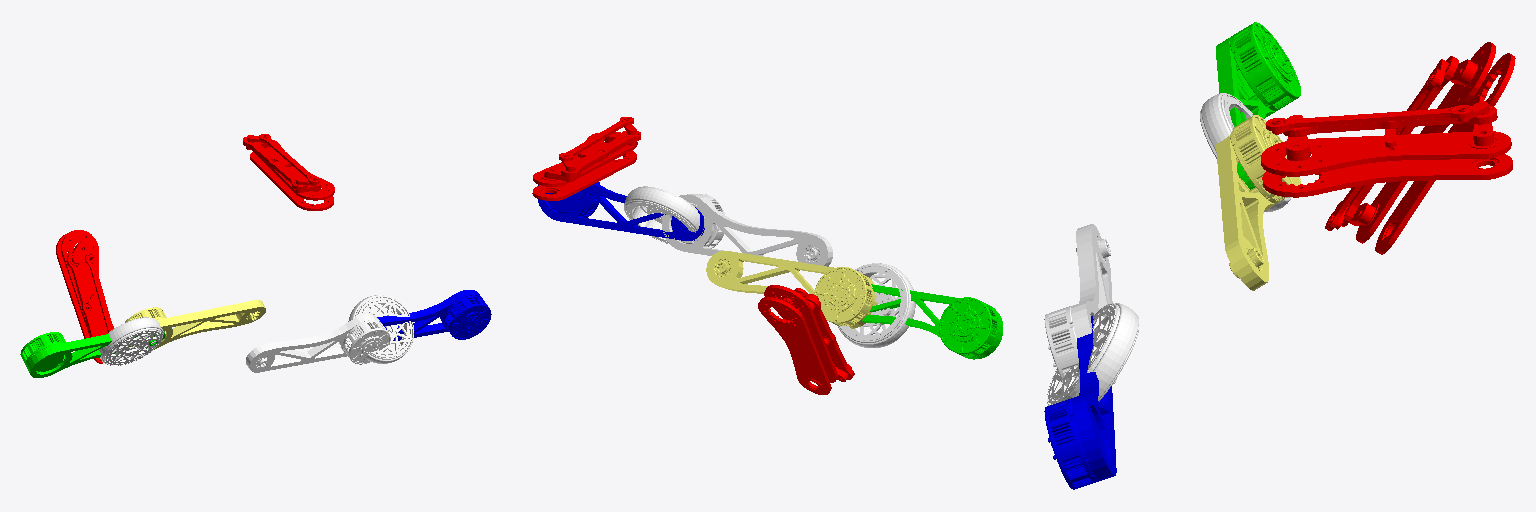
robot.urdf — practice3_urdf:
<?xml version="1.0" encoding="utf-8"?>
<!-- This URDF was automatically created by SolidWorks to URDF Exporter! Originally created by [author] ([email redacted]) 
     Commit Version: 1.6.0-4-g7f85cfe  Build Version: 1.6.7995.38578
     For more information, please see http://wiki.ros.org/sw_urdf_exporter -->
<robot
  name="practice3_urdf">
  <link
    name="base_link">
    <inertial>
      <origin
        xyz="0.0188021423795417 -0.000802176744733173 -0.024013930552016"
        rpy="0 0 0" />
      <mass
        value="8.37275986662422" />
      <inertia
        ixx="0.0158042309065376"
        ixy="4.52035430479556E-06"
        ixz="3.89801632335293E-05"
        iyy="0.0155315385252496"
        iyz="-3.10663332162052E-05"
        izz="0.0196521702777931" />
    </inertial>
    <visual>
      <origin
        xyz="0 0 0"
        rpy="0 0 0" />
      <geometry>
        <mesh
          filename="package://practice3_urdf/practice3/meshes/base_link.STL" />
      </geometry>
      <material
        name="">
        <color
          rgba="0.898039215686275 0.917647058823529 0.929411764705882 1" />
      </material>
    </visual>
    <collision>
      <origin
        xyz="0 0 0"
        rpy="0 0 0" />
      <geometry>
        <mesh
          filename="package://practice3_urdf/practice3/meshes/base_link.STL" />
      </geometry>
    </collision>
  </link>
  <link
    name="L_Hip_Link">
    <inertial>
      <origin
        xyz="0.011286 0.0092377 -0.082675"
        rpy="0 0 0" />
      <mass
        value="0.34413" />
      <inertia
        ixx="0.00079775"
        ixy="2.3654E-07"
        ixz="-3.8169E-06"
        iyy="0.00084813"
        iyz="3.4669E-07"
        izz="5.3642E-05" />
    </inertial>
    <visual>
      <origin
        xyz="0 0 0"
        rpy="0 0 0" />
      <geometry>
        <mesh
          filename="package://practice3_urdf/practice3/meshes/L_Hip_Link.STL" />
      </geometry>
      <material
        name="">
        <color
          rgba="1 0 0 1" />
      </material>
    </visual>
    <collision>
      <origin
        xyz="0 0 0"
        rpy="0 0 0" />
      <geometry>
        <mesh
          filename="package://practice3_urdf/practice3/meshes/L_Hip_Link.STL" />
      </geometry>
    </collision>
  </link>
  <joint
    name="L_Hip_Joint"
    type="revolute">
    <origin
      xyz="0.18415 0.0569999999999967 0.202799999999937"
      rpy="0 -0.0761333556172417 1.5707963267949"  />
    <parent
      link="base_link" />
    <child
      link="L_Hip_Link" />
    <axis
      xyz="0.997103255683817 0 -0.0760598284558406" />
    <limit
      lower="0"
      upper="0"
      effort="0"
      velocity="0" />
  </joint>
  <link
    name="L_Knee_Link">
    <inertial>
      <origin
        xyz="0.00032795 -0.016733 -0.064732"
        rpy="0 0 0" />
      <mass
        value="0.30256" />
      <inertia
        ixx="0.0012369"
        ixy="3.5484E-07"
        ixz="6.6741E-07"
        iyy="0.0010486"
        iyz="-0.00026845"
        izz="0.00020681" />
    </inertial>
    <visual>
      <origin
        xyz="0 0 0"
        rpy="0 0 0" />
      <geometry>
        <mesh
          filename="package://practice3_urdf/practice3/meshes/L_Knee_Link.STL" />
      </geometry>
      <material
        name="">
        <color
          rgba="0 0 1 1" />
      </material>
    </visual>
    <collision>
      <origin
        xyz="0 0 0"
        rpy="0 0 0" />
      <geometry>
        <mesh
          filename="package://practice3_urdf/practice3/meshes/L_Knee_Link.STL" />
      </geometry>
    </collision>
  </link>
  <joint
    name="L_Knee_Joint"
    type="revolute">
    <origin
      xyz="-0.20169 0.0156 -0.16999"
      rpy="1.8499 0 -1.5708" />
    <parent
      link="L_Hip_Link" />
    <child
      link="L_Knee_Link" />
    <axis
      xyz="0 0.347852975024765 0.937549096189858" />
    <limit
      lower="0"
      upper="0"
      effort="0"
      velocity="0" />
  </joint>
  <link
    name="L_Ankle_Link">
    <inertial>
      <origin
        xyz="0.00032795 -0.016733 -0.064732"
        rpy="0 0 0" />
      <mass
        value="0.30256" />
      <inertia
        ixx="0.0012369"
        ixy="3.5484E-07"
        ixz="6.6741E-07"
        iyy="0.0010486"
        iyz="-0.00026845"
        izz="0.00020681" />
    </inertial>
    <visual>
      <origin
        xyz="0 0 0"
        rpy="0 0 0" />
      <geometry>
        <mesh
          filename="package://practice3_urdf/practice3/meshes/L_Ankle_Link.STL" />
      </geometry>
      <material
        name="">
        <color
          rgba="1 1 1 1" />
      </material>
    </visual>
    <collision>
      <origin
        xyz="0 0 0"
        rpy="0 0 0" />
      <geometry>
        <mesh
          filename="package://practice3_urdf/practice3/meshes/L_Ankle_Link.STL" />
      </geometry>
    </collision>
  </link>
  <joint
    name="L_Ankle_Joint"
    type="fixed">
    <origin
      xyz="0 0 0"
      rpy="0 0 0" />
    <parent
      link="L_Knee_Link" />
    <child
      link="L_Ankle_Link" />
    <axis
      xyz="0 0 0" />
  </joint>
  <link
    name="L_Wheel_Link">
    <inertial>
      <origin
        xyz="-0.0071059 2.9377E-13 -1.1448E-13"
        rpy="0 0 0" />
      <mass
        value="0.22735" />
      <inertia
        ixx="0.00043315"
        ixy="-6.6231E-19"
        ixz="4.0919E-20"
        iyy="0.00021934"
        iyz="-4.7434E-20"
        izz="0.00021934" />
    </inertial>
    <visual>
      <origin
        xyz="0 0 0"
        rpy="0 0 0" />
      <geometry>
        <mesh
          filename="package://practice3_urdf/practice3/meshes/L_Wheel_Link.STL" />
      </geometry>
      <material
        name="">
        <color
          rgba="1 1 1 1" />
      </material>
    </visual>
    <collision>
      <origin
        xyz="0 0 0"
        rpy="0 0 0" />
      <geometry>
        <mesh
          filename="package://practice3_urdf/practice3/meshes/L_Wheel_Link.STL" />
      </geometry>
    </collision>
  </link>
  <joint
    name="L_Wheel_Joint"
    type="revolute">
    <origin
      xyz="0.0395 0 0"
      rpy="-0.97093 0 0" />
    <parent
      link="L_Ankle_Link" />
    <child
      link="L_Wheel_Link" />
    <axis
      xyz="0 0.577491348313505 -0.816396804637947" />
    <limit
      lower="0"
      upper="0"
      effort="0"
      velocity="0" />
  </joint>
  <link
    name="R_Hip_Link">
    <inertial>
      <origin
        xyz="0.0117536026473243 -0.013943067505786 -0.0949549900093473"
        rpy="0 0 0" />
      <mass
        value="0.337321088171608" />
      <inertia
        ixx="0.000798084382550188"
        ixy="7.17049119779467E-08"
        ixz="-2.43050588166002E-05"
        iyy="0.000848108874132959"
        iyz="-1.62164192785438E-07"
        izz="5.30345352819092E-05" />
    </inertial>
    <visual>
      <origin
        xyz="0 0 0"
        rpy="0 0 0" />
      <geometry>
        <mesh
          filename="package://practice3_urdf/practice3/meshes/R_Hip_Link.STL" />
      </geometry>
      <material
        name="">
        <color
          rgba="1 0 0 1" />
      </material>
    </visual>
    <collision>
      <origin
        xyz="0 0 0"
        rpy="0 0 0" />
      <geometry>
        <mesh
          filename="package://practice3_urdf/practice3/meshes/R_Hip_Link.STL" />
      </geometry>
    </collision>
  </link>
  <joint
    name="R_Hip_Joint"
    type="revolute">
    <origin
      xyz="-0.188649999999999 0.224484620762522 0.115844278991675"
      rpy="3.14159265358979 1.00070721609115 -1.5707963267949" />
    <parent
      link="base_link" />
    <child
      link="R_Hip_Link" />
    <axis
      xyz="0.539707068979717 0 -0.841852884828058" />
    <limit
      lower="0"
      upper="0"
      effort="0"
      velocity="0" />
  </joint>
  <link
    name="R_Knee_Link">
    <inertial>
      <origin
        xyz="0.00032795 0.014257 -0.065364"
        rpy="0 0 0" />
      <mass
        value="0.30256" />
      <inertia
        ixx="0.0012369"
        ixy="-1.5522E-07"
        ixz="6.7745E-07"
        iyy="0.0010691"
        iyz="0.00023325"
        izz="0.00018631" />
    </inertial>
    <visual>
      <origin
        xyz="0 0 0"
        rpy="0 0 0" />
      <geometry>
        <mesh
          filename="package://practice3_urdf/practice3/meshes/R_Knee_Link.STL" />
      </geometry>
      <material
        name="">
        <color
          rgba="0 1 0 1" />
      </material>
    </visual>
    <collision>
      <origin
        xyz="0 0 0"
        rpy="0 0 0" />
      <geometry>
        <mesh
          filename="package://practice3_urdf/practice3/meshes/R_Knee_Link.STL" />
      </geometry>
    </collision>
  </link>
  <joint
    name="R_Knee_Joint"
    type="revolute">
    <origin
      xyz="0.18364 -0.0201 -0.13848"
      rpy="1.9786 0 1.5708" />
    <parent
      link="R_Hip_Link" />
    <child
      link="R_Knee_Link" />
    <axis
      xyz="0 0.55876909327944 -0.829323278580598" />
    <limit
      lower="0"
      upper="0"
      effort="0"
      velocity="0" />
  </joint>
  <link
    name="R_Ankle_Link">
    <inertial>
      <origin
        xyz="0.00032795 0.014257 0"
        rpy="0 0 0" />
        <!-- -0.065364 -->
      <mass
        value="0.30256" />
      <inertia
        ixx="0.0012369"
        ixy="-1.5522E-07"
        ixz="6.7745E-07"
        iyy="0.0010691"
        iyz="0.00023325"
        izz="0.00018631" />
    </inertial>
    <visual>
      <origin
        xyz="0 0 0"
        rpy="0 0 0" />
      <geometry>
        <mesh
          filename="package://practice3_urdf/practice3/meshes/R_Ankle_Link.STL" />
      </geometry>
      <material
        name="">
        <color
          rgba="1 1 0.5 1" />
      </material>
    </visual>
    <collision>
      <origin
        xyz="0 0 0"
        rpy="0 0 0" />
      <geometry>
        <mesh
          filename="package://practice3_urdf/practice3/meshes/R_Ankle_Link.STL" />
      </geometry>
    </collision>
  </link>
  <joint
    name="R_Ankle_Joint"
    type="fixed">
    <origin
      xyz="0 0 0"
      rpy="0 0 0" />
    <parent
      link="R_Knee_Link" />
    <child
      link="R_Ankle_Link" />
    <axis
      xyz="0 0 0" />
  </joint>
  <link
    name="R_Wheel_Link">
    <inertial>
      <origin
        xyz="-0.0071059 -1.0408E-17 -3.4694E-18"
        rpy="0 0 0" />
      <mass
        value="0.22735" />
      <inertia
        ixx="0.00043315"
        ixy="-4.681E-19"
        ixz="3.1479E-19"
        iyy="0.00021934"
        iyz="6.7763E-21"
        izz="0.00021934" />
    </inertial>
    <visual>
      <origin
        xyz="0 0 0"
        rpy="0 0 0" />
      <geometry>
        <mesh
          filename="package://practice3_urdf/practice3/meshes/R_Wheel_Link.STL" />
      </geometry>
      <material
        name="">
        <color
          rgba="1 1 1 1" />
      </material>
    </visual>
    <collision>
      <origin
        xyz="0 0 0"
        rpy="0 0 0" />
      <geometry>
        <mesh
          filename="package://practice3_urdf/practice3/meshes/R_Wheel_Link.STL" />
      </geometry>
    </collision>
  </link>
  <joint
    name="R_Wheel_Joint"
    type="revolute">
    <origin
      xyz="0.0395 0 0"
      rpy="-0.027332 0 0" />
    <parent
      link="R_Ankle_Link" />
    <child
      link="R_Wheel_Link" />
    <axis
      xyz="0 0.577491348313505 -0.816396804637947" />
    <limit
      lower="0"
      upper="0"
      effort="0"
      velocity="0" />
  </joint>
</robot>

--- What the picture shows (computed from the rendered views, not written in the file) ---
The picture shows the robot from 3 angles, left to right: view 1: azimuth 30°, elevation 25°; view 2: azimuth 150°, elevation 25°; view 3: azimuth 270°, elevation 25°; orthographic projection.
Model practice3_urdf with 9 links and 8 joints (6 revolute, 2 fixed), rooted at base_link, posed every joint at zero.
Visible links, largest first — view 1: L_Ankle_Link, R_Hip_Link, L_Hip_Link, L_Knee_Link, R_Ankle_Link, R_Knee_Link, R_Wheel_Link, L_Wheel_Link; view 2: R_Ankle_Link, R_Hip_Link, R_Knee_Link, L_Hip_Link, L_Ankle_Link, L_Knee_Link, R_Wheel_Link, L_Wheel_Link; view 3: L_Hip_Link, R_Hip_Link, R_Ankle_Link, L_Knee_Link, R_Knee_Link, L_Ankle_Link, L_Wheel_Link, R_Wheel_Link.
Link boxes in pixels (x1,y1,x2,y2): L_Ankle_Link: (246, 314, 390, 372); R_Hip_Link: (56, 230, 113, 363); L_Hip_Link: (243, 134, 334, 210); L_Knee_Link: (377, 290, 491, 340); R_Ankle_Link: (125, 300, 265, 351); R_Knee_Link: (20, 332, 164, 377); R_Wheel_Link: (99, 317, 163, 365); L_Wheel_Link: (348, 295, 413, 363); R_Ankle_Link: (706, 251, 877, 328); R_Hip_Link: (758, 285, 854, 394); R_Knee_Link: (862, 284, 1002, 359); L_Hip_Link: (532, 117, 640, 200); L_Ankle_Link: (662, 194, 832, 266); L_Knee_Link: (538, 182, 704, 240); R_Wheel_Link: (837, 263, 915, 347); L_Wheel_Link: (624, 186, 699, 243); L_Hip_Link: (1261, 102, 1512, 197); R_Hip_Link: (1325, 42, 1515, 254); R_Ankle_Link: (1216, 115, 1300, 290); L_Knee_Link: (1044, 316, 1116, 489); R_Knee_Link: (1216, 22, 1300, 189); L_Ankle_Link: (1044, 224, 1116, 383); L_Wheel_Link: (1047, 303, 1138, 405); R_Wheel_Link: (1200, 93, 1291, 211).
Size in the robot's own frame: 0.8171 by 0.4304 by 0.313 metres.
8 mesh visuals loaded from 9 distinct referenced files (8 binary STL); not drawn: 1 (reference not matched to a file when rendering).
